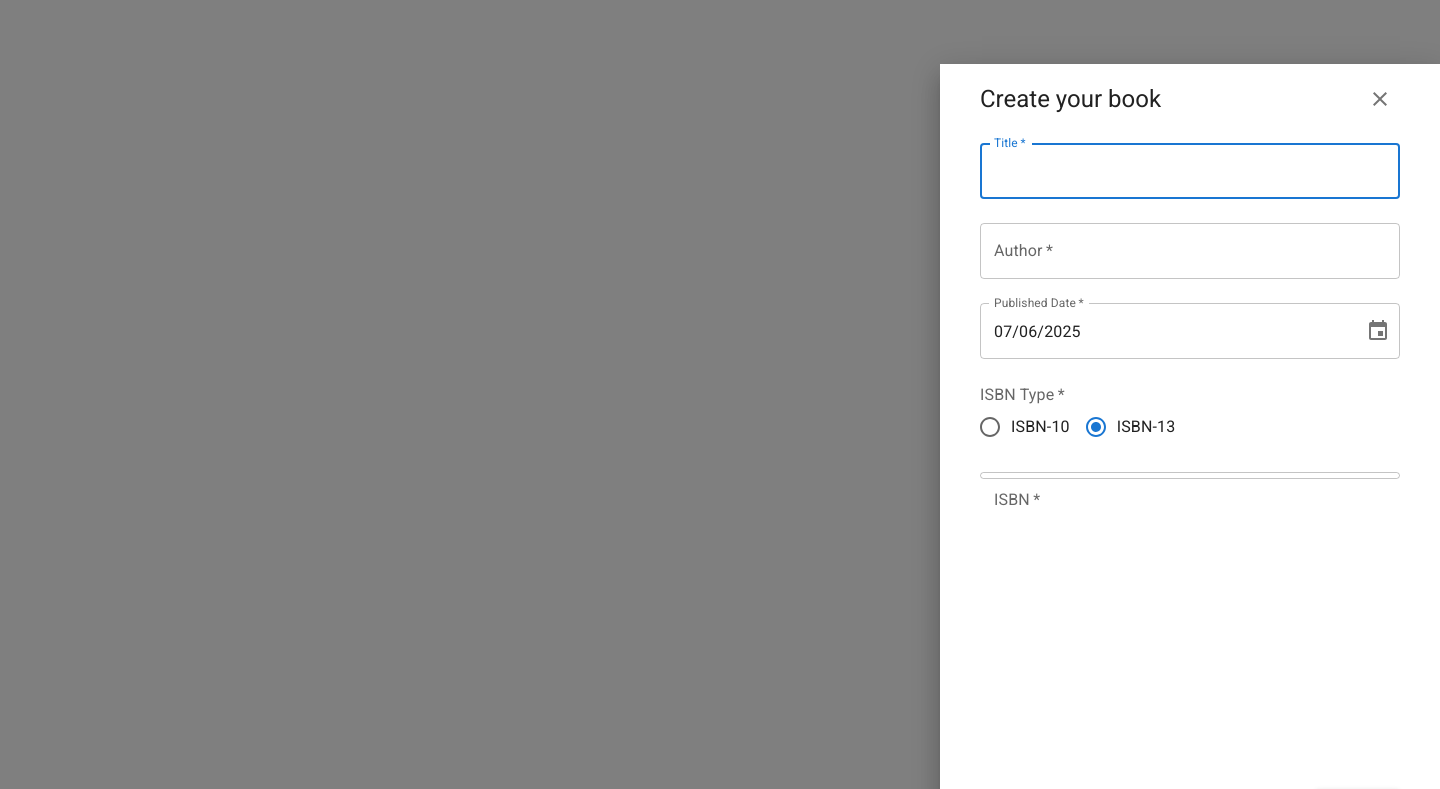
Scenario: AddBook › shows validation error if the authors name is too short
The width and height of the screenshot is (1440, 789).
Type "A" into the field with test id "author-input". click: [1190, 251]
box: [980,223,1400,279]
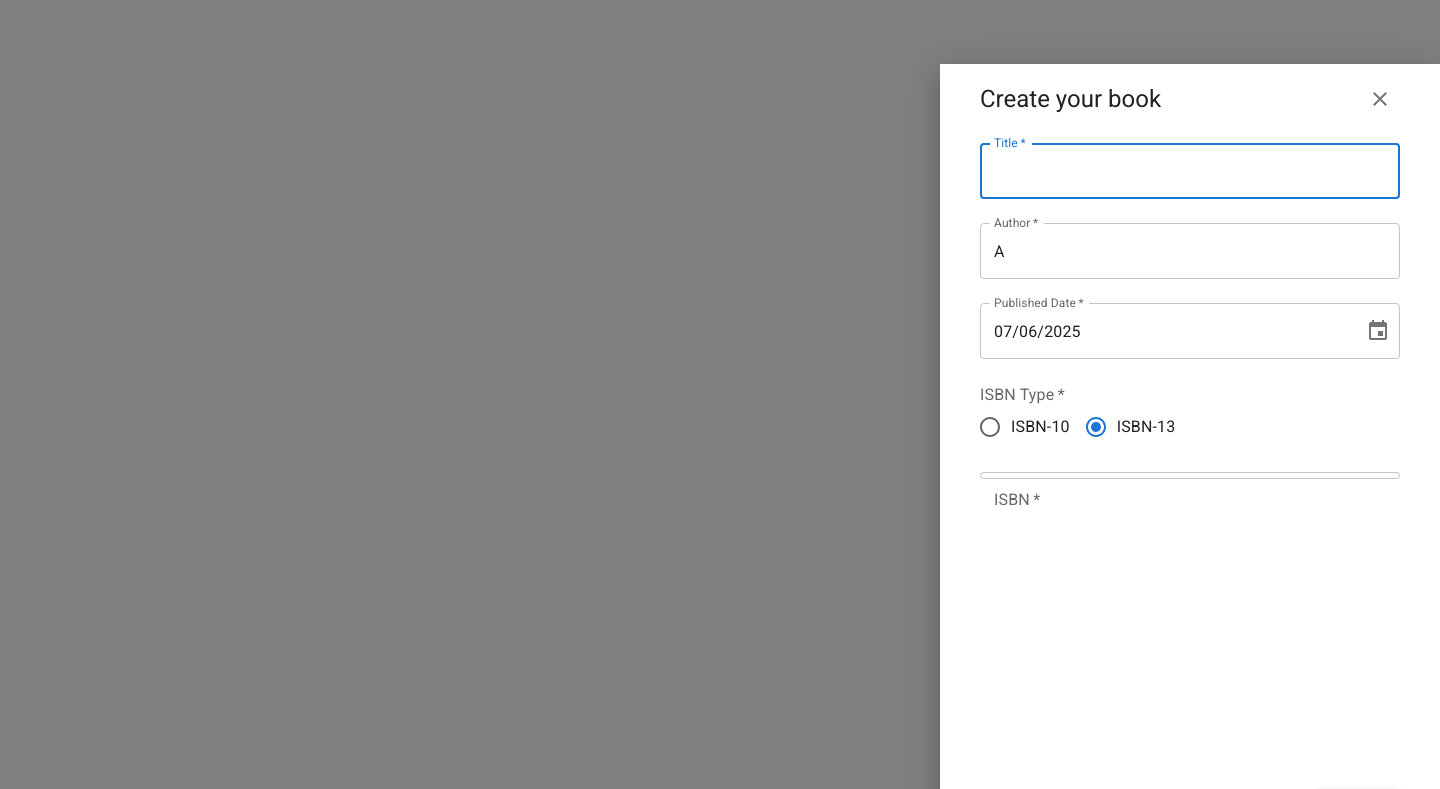
Leave the field with test id "author-input", box [980,223,1400,279]
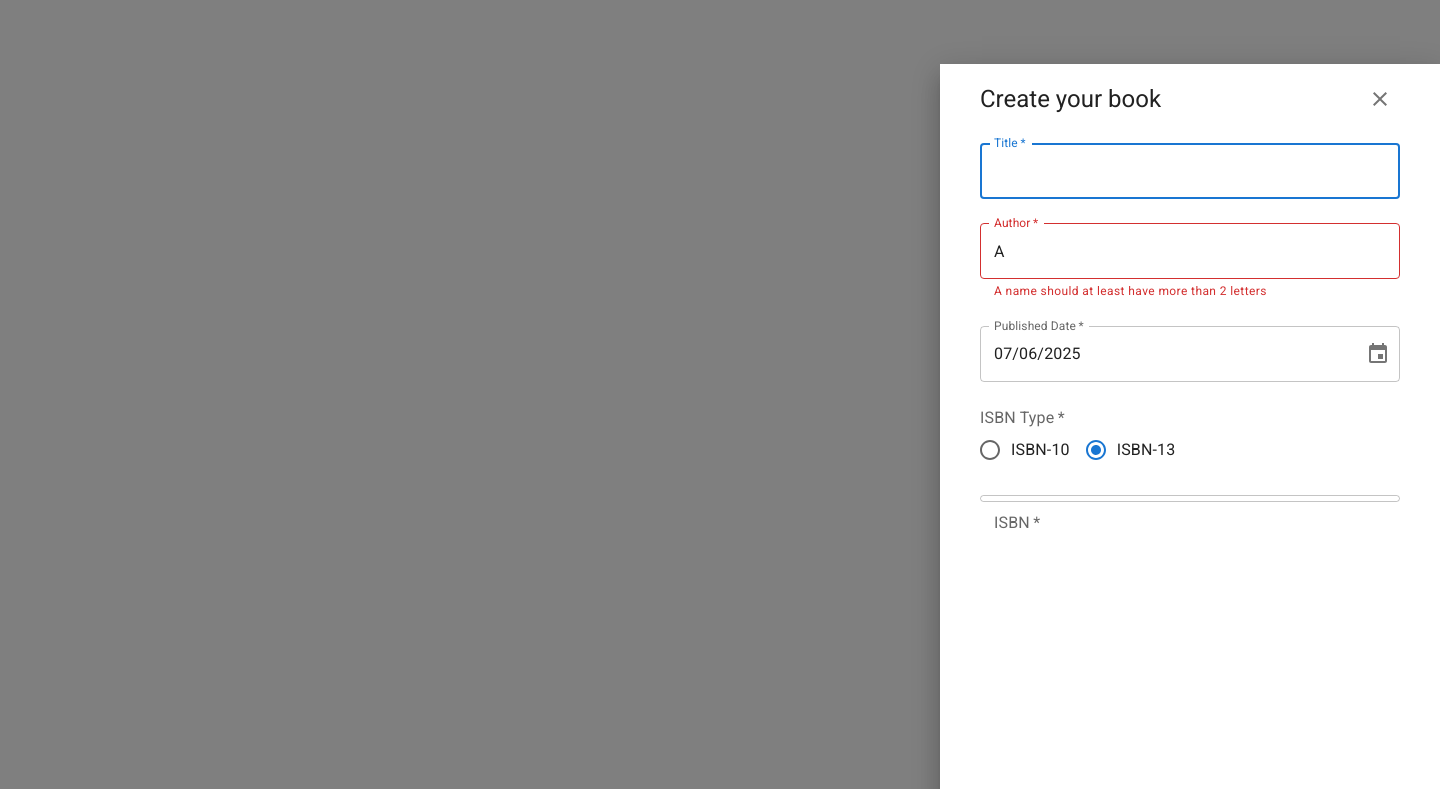
Expected: the text "A name should at least have more than 2 letters" is shown, [994,284,1267,298]
